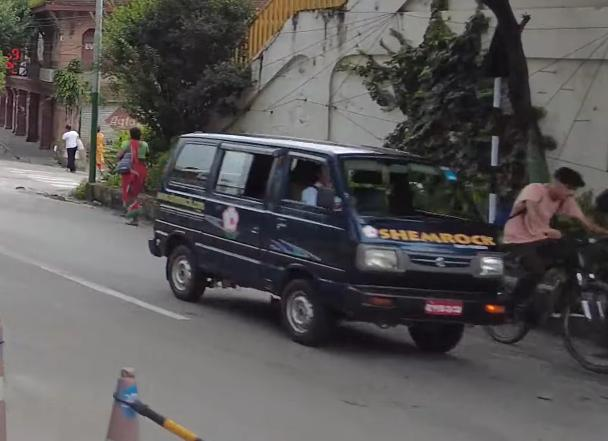van: (155, 121, 518, 367)
